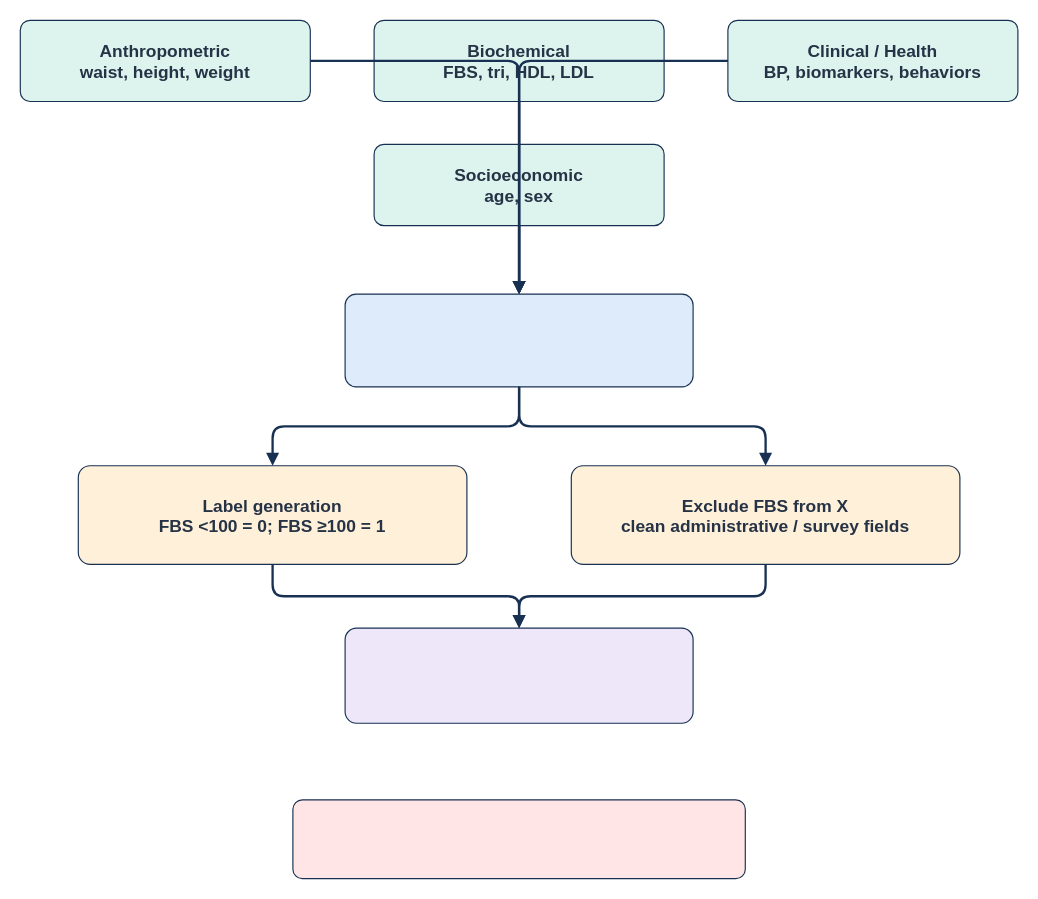
Image size: 1038x899. Some labels were removed from this diagram. Here are the shapes that lost their labels. From the top down, the centre of each, then its label:
At pixel 518 340: "Merge on respondent identifiers Check uniqueness and join cardinality".
At pixel 518 675: "Final modeled dataset 22 predictors + binary target".
At pixel 518 839: "Dietary component: examined but excluded No dietary variables in final model".
